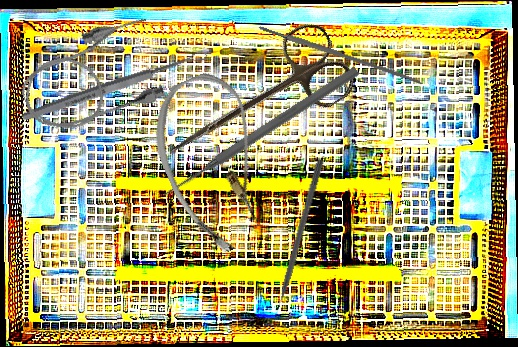Cannula: (135, 63, 294, 263), (9, 9, 175, 146)
Iris Scissors: (150, 15, 361, 192)
Pusher: (160, 63, 361, 202), (269, 157, 325, 324)
Scalpel Handle: (256, 22, 425, 87)
Surgical Spoon: (19, 47, 210, 125)
